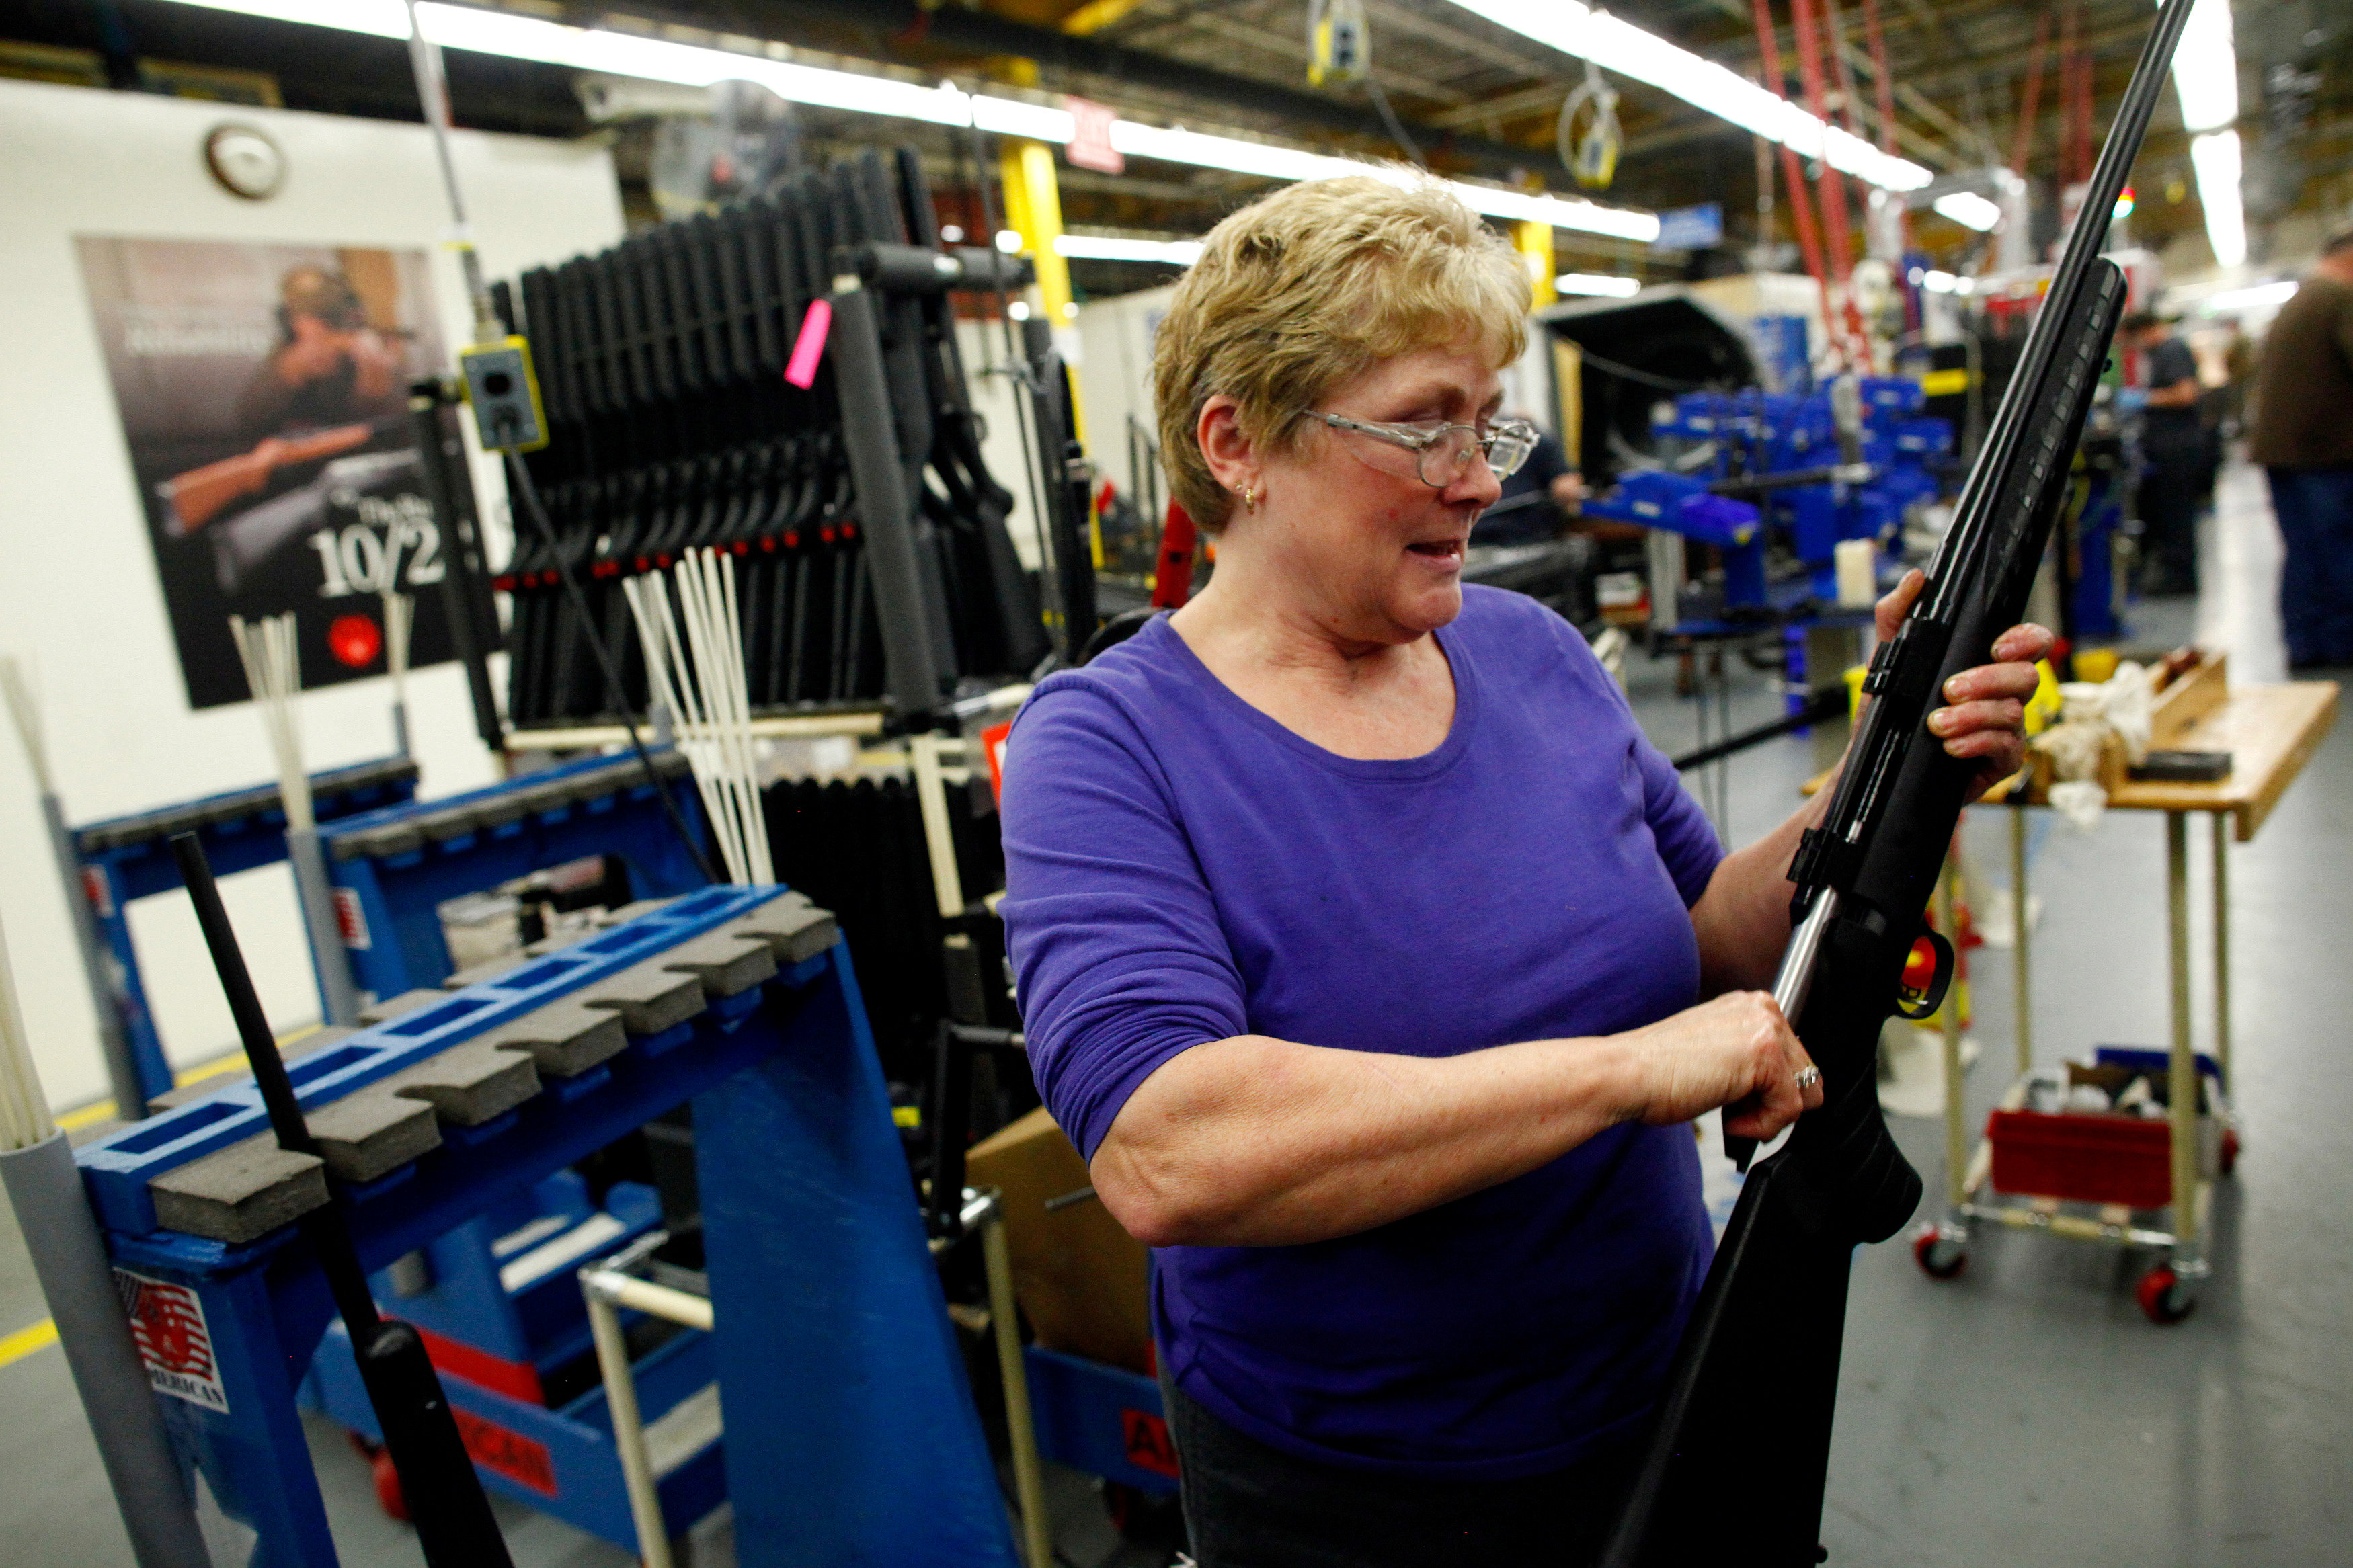Arma Real: (1626, 0, 2209, 1517)
